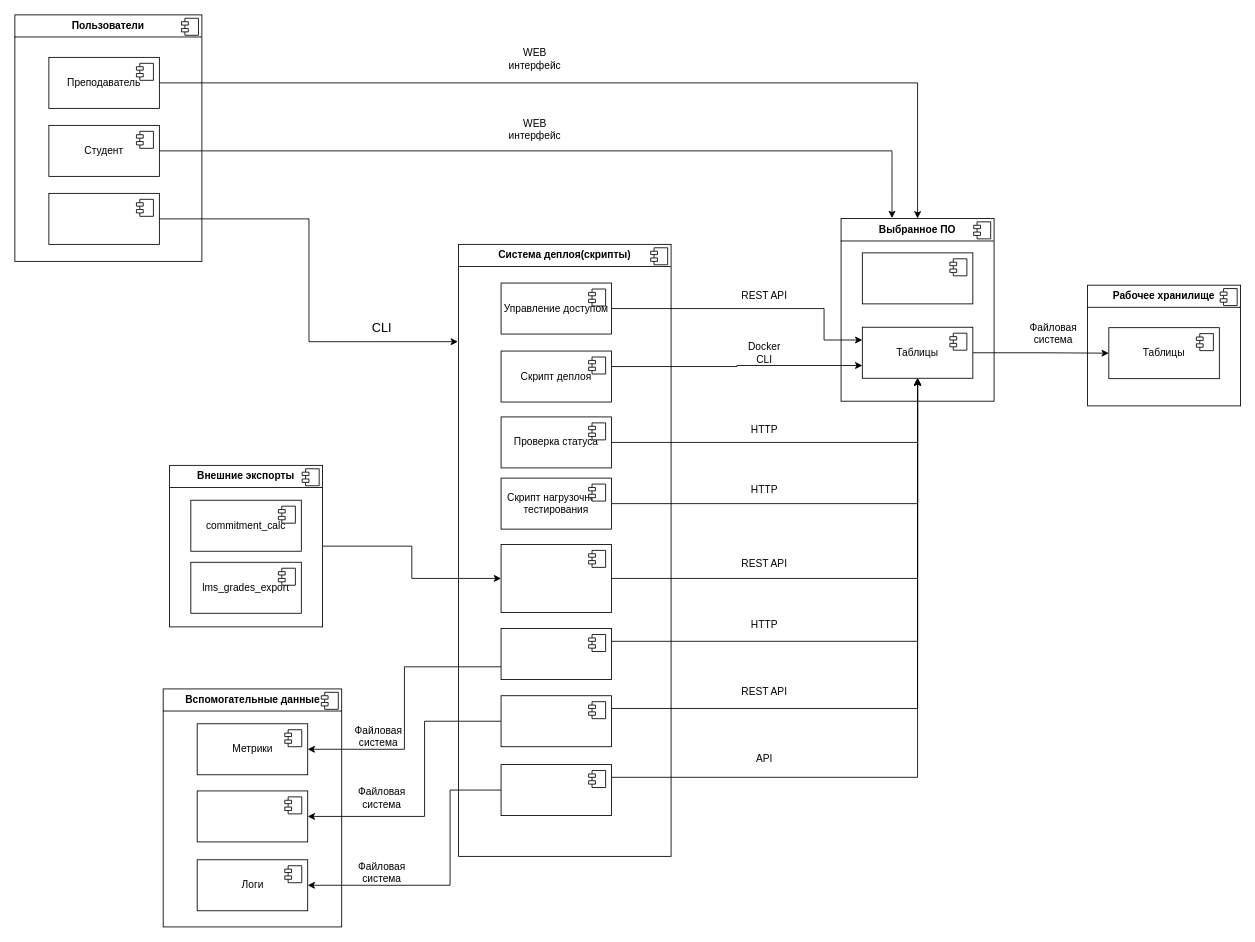
The diagram is 1255 pixels wide and 942 high, and some of its shapes have lost their labels. Here are the shapes that lost their labels. From the top down, the centre of each, then its label:
At pixel 103 218: "Админимтратор".
At pixel 917 278: "Формы".
At pixel 556 578: "Связь экcпортов с таблицей".
At pixel 556 654: "Измерение ресурсов".
At pixel 556 721: "Бэкап модуль".
At pixel 556 790: "Логирование".
At pixel 252 816: "Бэкапы".
